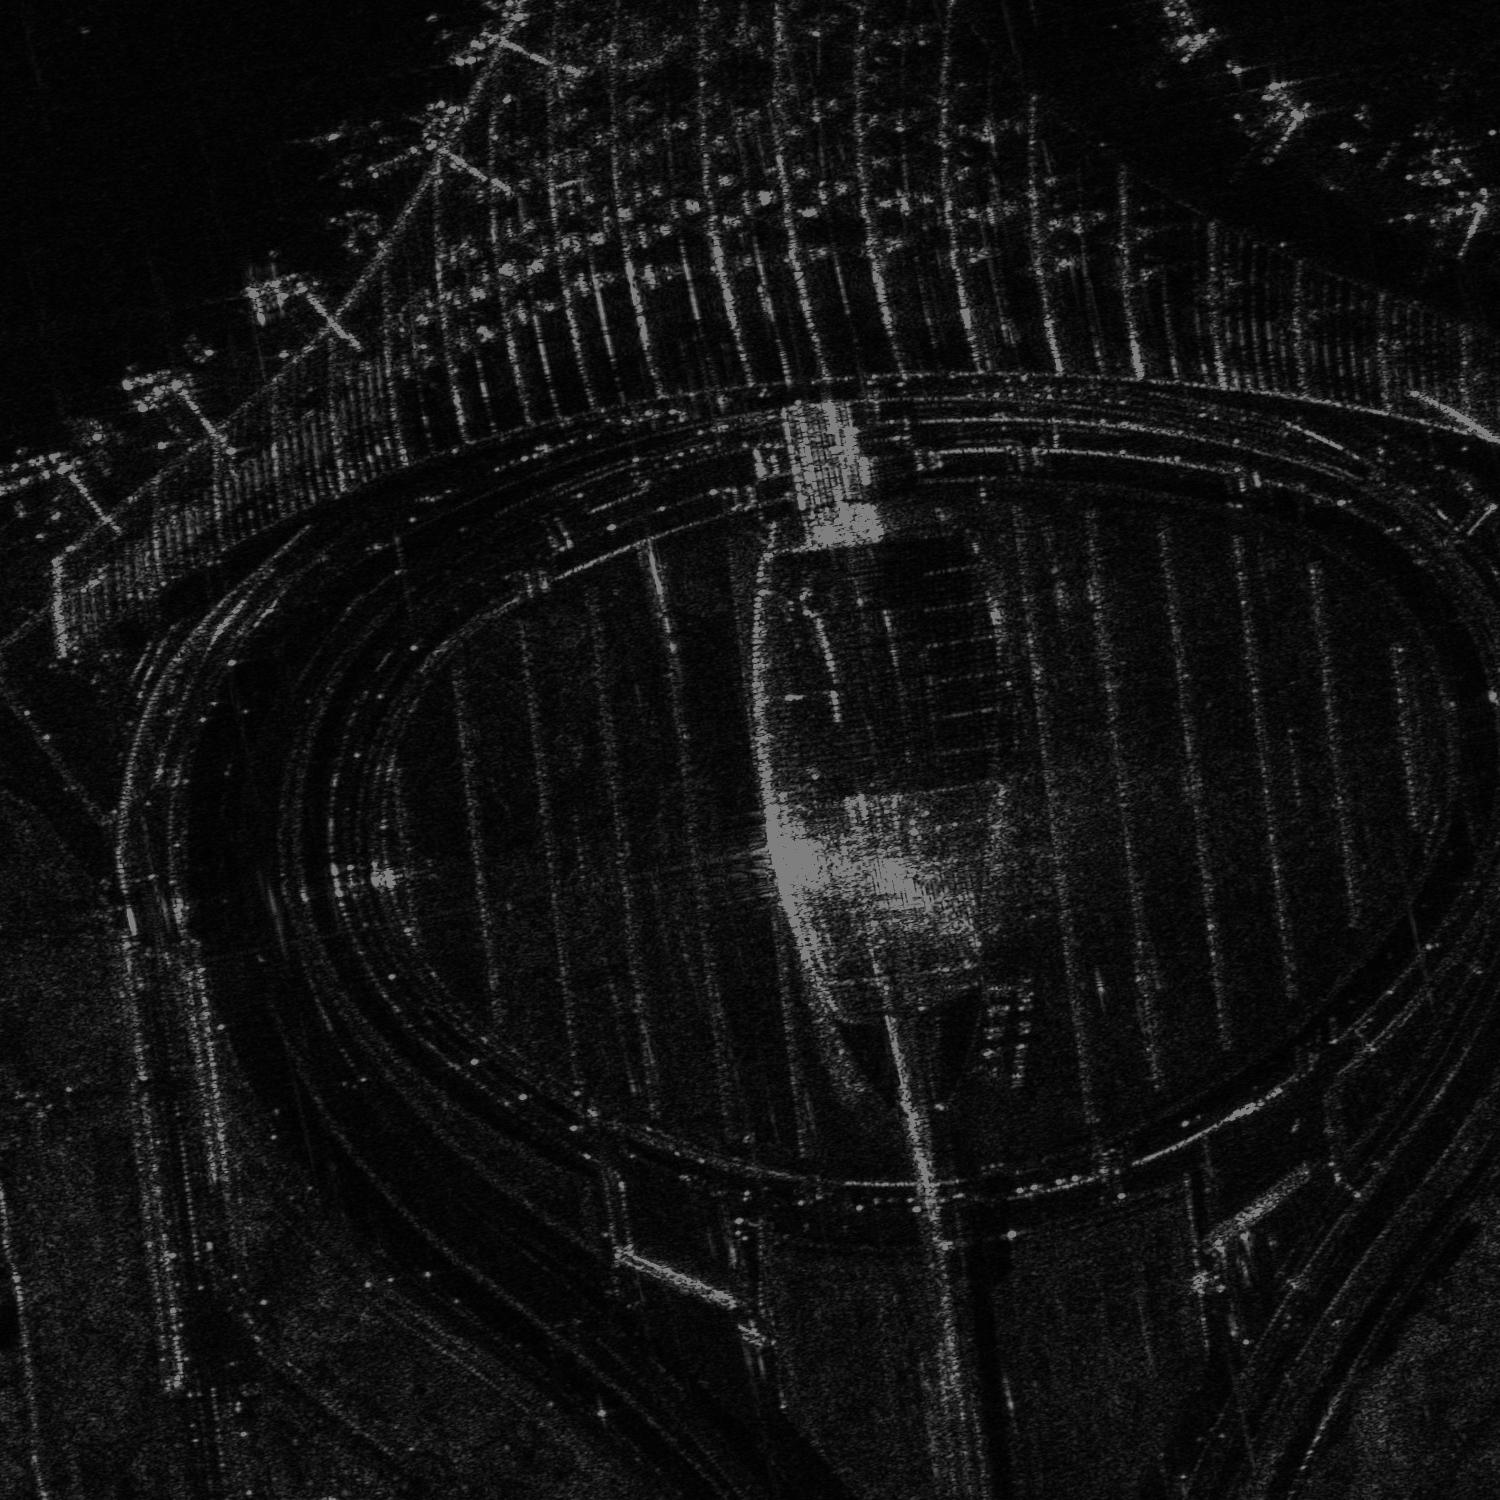A220: (306, 115, 359, 183)
